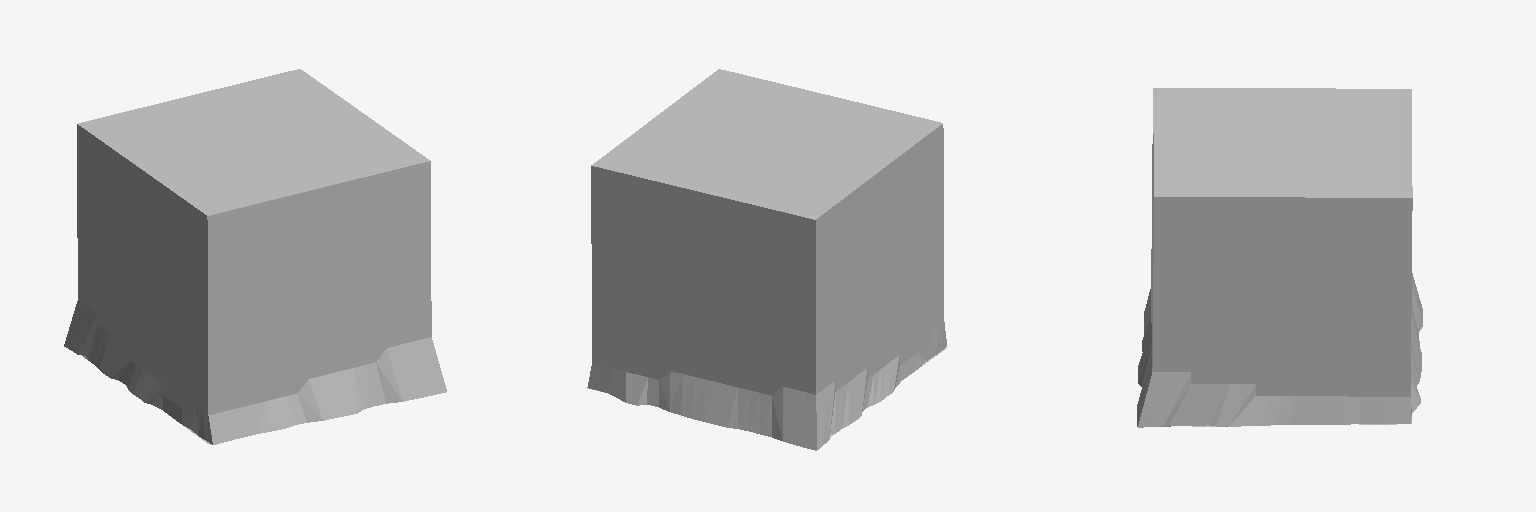
File: mod0104.obj
The picture shows the model from 3 angles: view 1: azimuth 30°, elevation 25°; view 2: azimuth 150°, elevation 25°; view 3: azimuth 270°, elevation 25°; orthographic projection.
Visible parts, largest first — view 1: Box001; view 2: Box001; view 3: Box001.
Boxes of the visible parts, box(x1,y1,x2,y2) form: Box001: box(64, 69, 446, 444); Box001: box(587, 69, 946, 450); Box001: box(1137, 88, 1422, 427).
Bounding box in the file's own units: 0.5799 × 0.5238 × 0.5979.